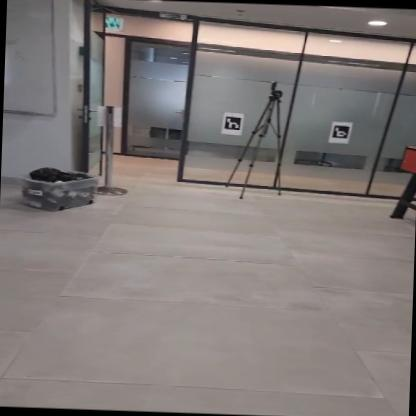open: (93, 38, 187, 179)
